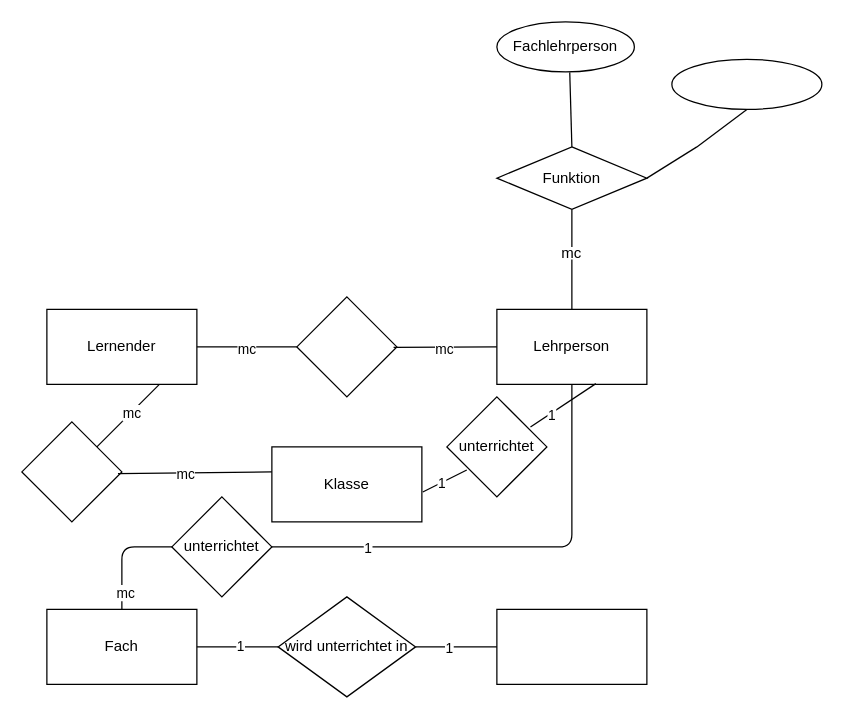
Image size: 844x719. Some labels were removed from this diagram. The shapes that lost their labels are listed below. From the top down, each one's centre as x and y in pixels, then its label:
point (746, 83): Klassenlehrperson
point (346, 346): erhält unterricht von
point (71, 471): geht in
point (571, 646): Raum
